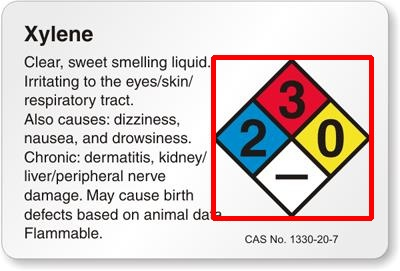nfpa: (213, 57, 371, 218)
